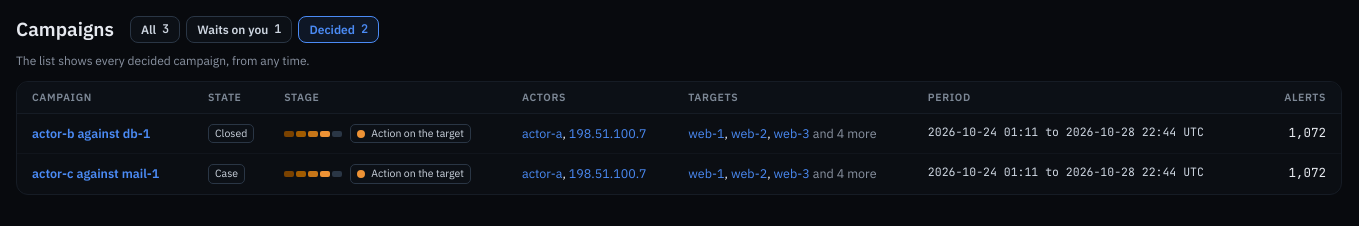
Scenario: Campaigns stage meter › opens on the filter of the decided campaigns that the Confirmed threats panel links to
Expected: the row with test id "campaign-row-8" is shown, top-left (17, 114), bottom-right (1341, 154)
Expected: the row with test id "campaign-row-9" is shown, top-left (17, 154), bottom-right (1341, 194)
Click the button "All 3": (155, 30) top-left (130, 16), bottom-right (180, 44)
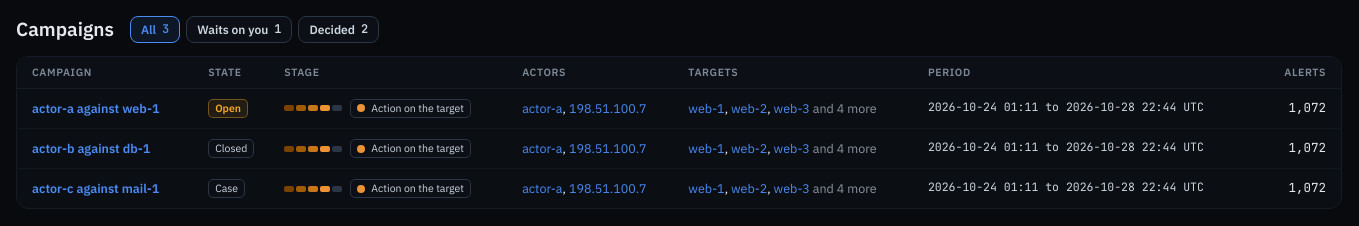
Now the text with test id "campaigns-decided-all" is gone
